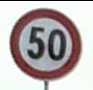limite 50: (8, 8, 81, 79)
